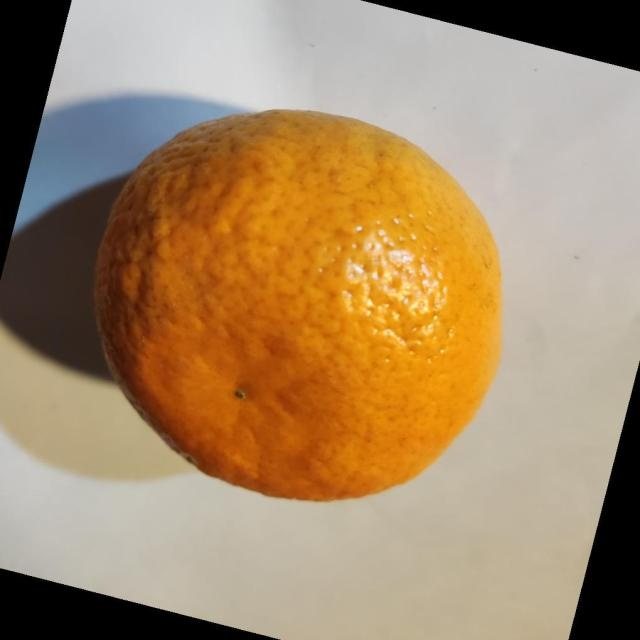agrume: (92, 106, 504, 502)
